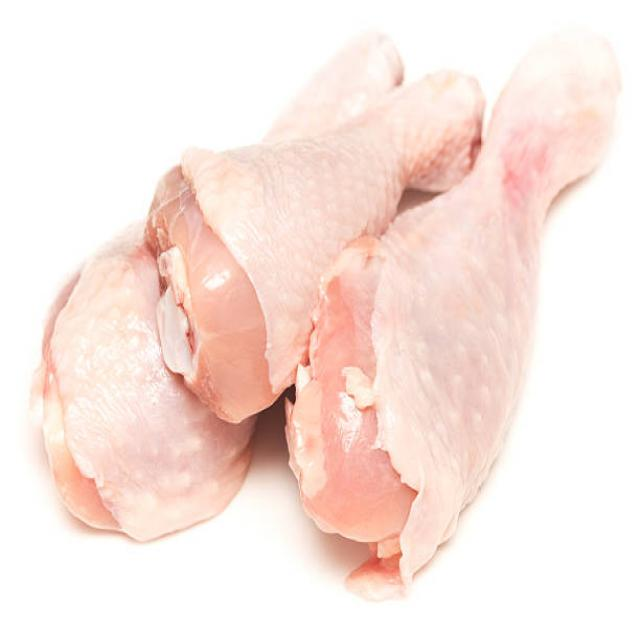Chicken: (300, 30, 633, 562)
